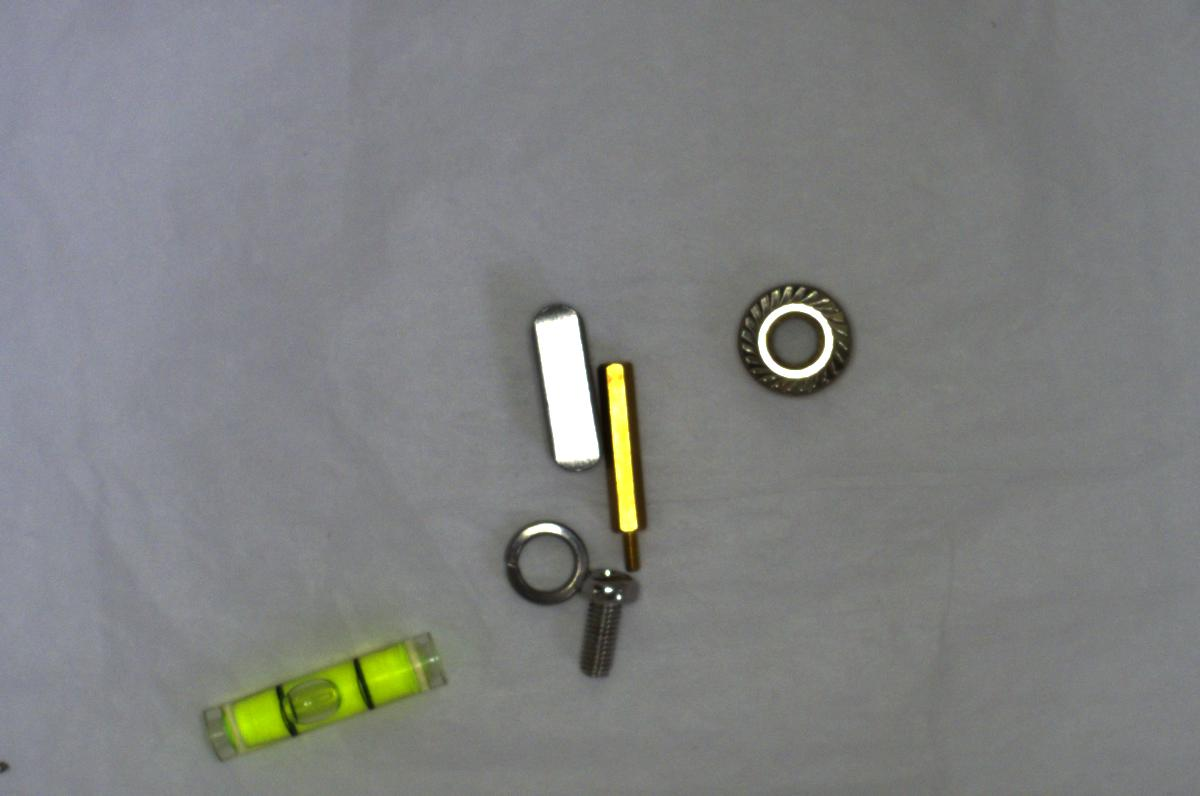Flange nut: (722, 279, 864, 398)
Hexagon pillar: (592, 349, 651, 575)
Horizontal bubble: (181, 621, 453, 761)
Keybar: (524, 295, 606, 479)
Round head screw: (570, 565, 646, 685)
Spring washer: (497, 515, 595, 603)
